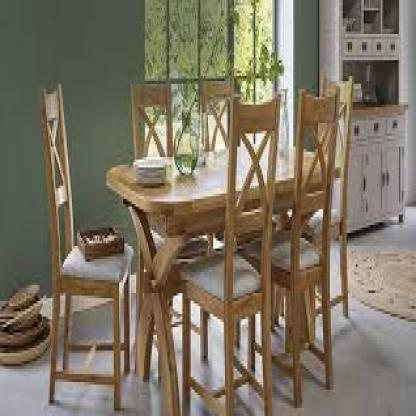Dining Table: (24, 100, 360, 401)
